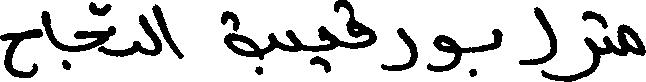X: (558, 6, 600, 81), (0, 11, 41, 81), (521, 2, 556, 81), (224, 6, 259, 79), (75, 0, 109, 59), (385, 23, 416, 75), (430, 30, 460, 76), (349, 0, 375, 53), (159, 2, 181, 63), (321, 0, 337, 77), (620, 19, 645, 60), (140, 0, 157, 60), (43, 6, 56, 52), (287, 25, 302, 56), (605, 15, 613, 58), (492, 24, 501, 54), (134, 36, 138, 57)
